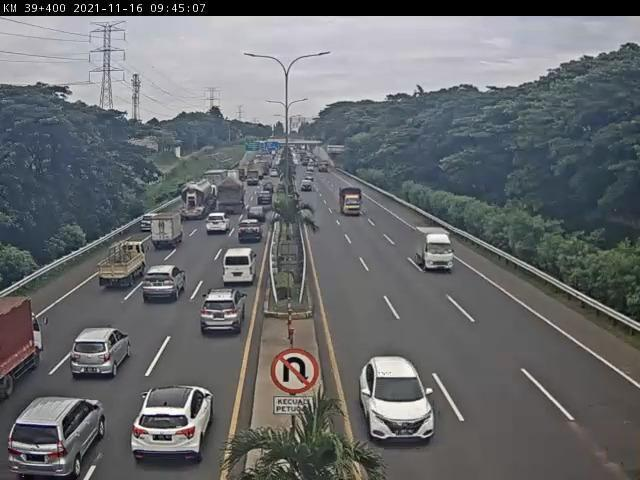car: (8, 398, 106, 477), (359, 358, 436, 445), (132, 387, 216, 463), (69, 328, 133, 379), (201, 286, 246, 336), (144, 266, 187, 302), (221, 252, 257, 287), (239, 219, 265, 241), (207, 214, 231, 237), (249, 206, 271, 224), (139, 219, 156, 236)
truck: (98, 241, 149, 289), (415, 226, 456, 273), (178, 180, 217, 220), (213, 180, 246, 220), (154, 214, 185, 252), (340, 189, 364, 218)
